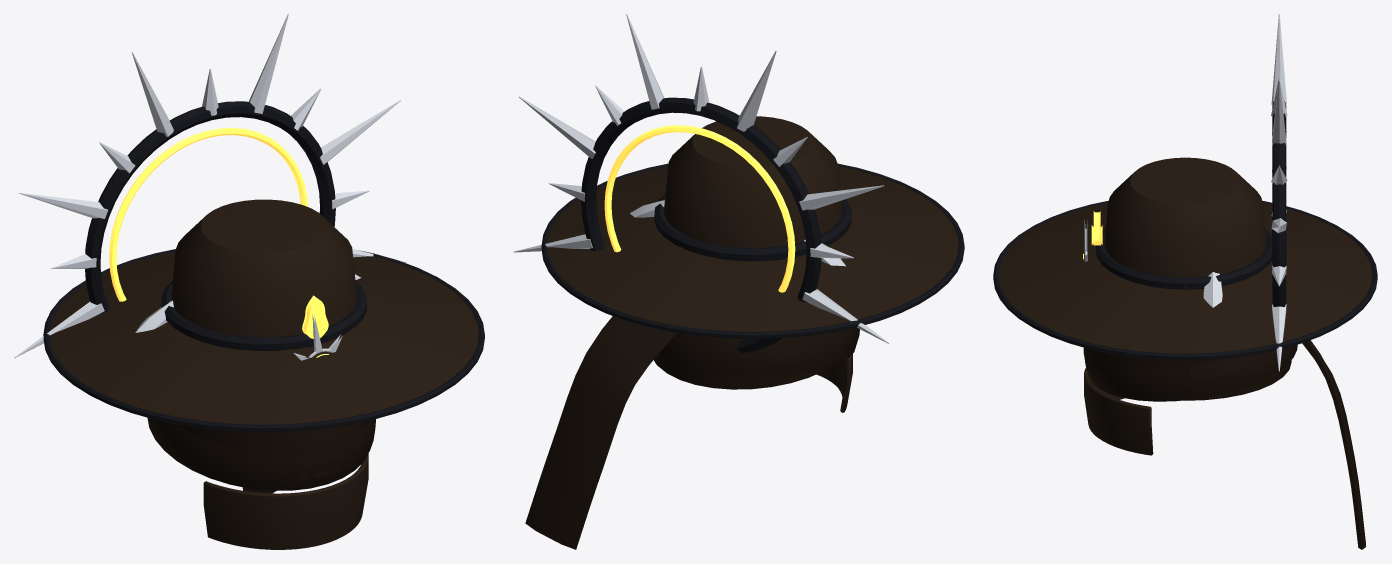
The model's file is esc_ashfall_pathfinder_helm.glb.
3 views of the same model, side by side, from view 1: azimuth 30°, elevation 25°; view 2: azimuth 150°, elevation 25°; view 3: azimuth 270°, elevation 25° (orthographic). The views are drawn at different scales.
Parts seen in each view (by area): view 1: esc_ashfall_pathfinder_helm; view 2: esc_ashfall_pathfinder_helm; view 3: esc_ashfall_pathfinder_helm.
Boxes of the visible parts, x1,y1,x2,y2 form: esc_ashfall_pathfinder_helm: (14,14,484,549); esc_ashfall_pathfinder_helm: (513,14,964,549); esc_ashfall_pathfinder_helm: (993,14,1377,549).
Size of the model in its own units: 0.7147 by 0.9155 by 0.6968.
